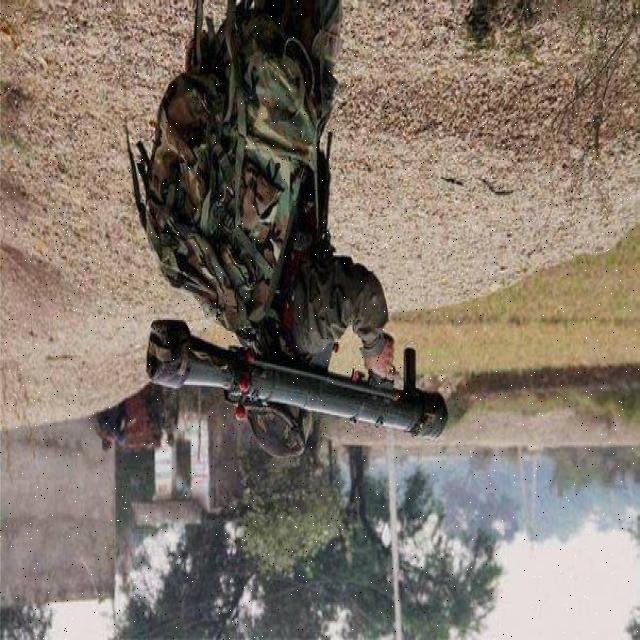bazooka: (146, 316, 456, 441)
